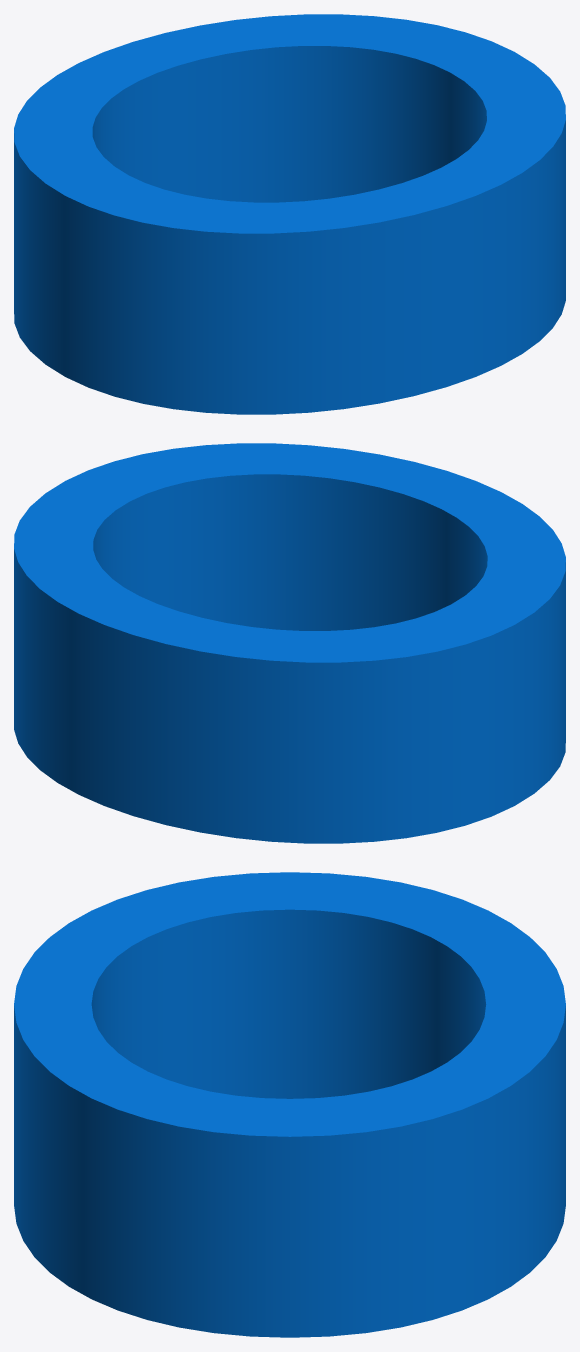
The model's file is eighth block.fbx.
3 views of the same model, one above another, from view 1: azimuth 30°, elevation 25°; view 2: azimuth 150°, elevation 25°; view 3: azimuth 270°, elevation 25° (orthographic). The views are drawn at different scales.
Visible parts, largest first — view 1: Text.008; view 2: Text.008; view 3: Text.008.
Part boxes in pixels (left/top/right/bottom): Text.008: left=14, top=14, right=565, bottom=414; Text.008: left=14, top=443, right=565, bottom=843; Text.008: left=14, top=872, right=565, bottom=1337.
Bounding box in the file's own units: 56.5 × 20 × 49.8.
